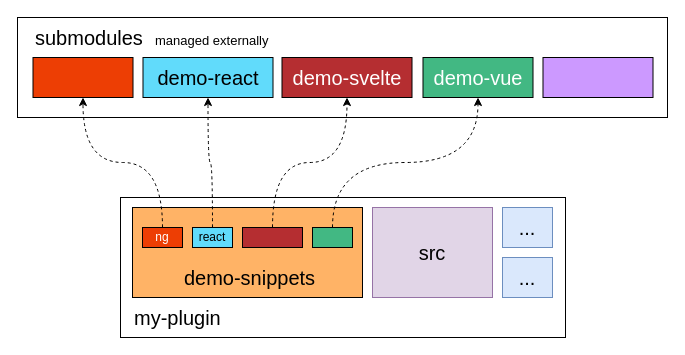
This 685x355 diagram has some shape labels left out. The shapes that lost their labels are listed below. From the top down, each one's centre as x and y in pixels, then its label:
the point at 82,77: demo-ng
the point at 597,77: tools
the point at 272,237: svelte
the point at 332,237: vue
